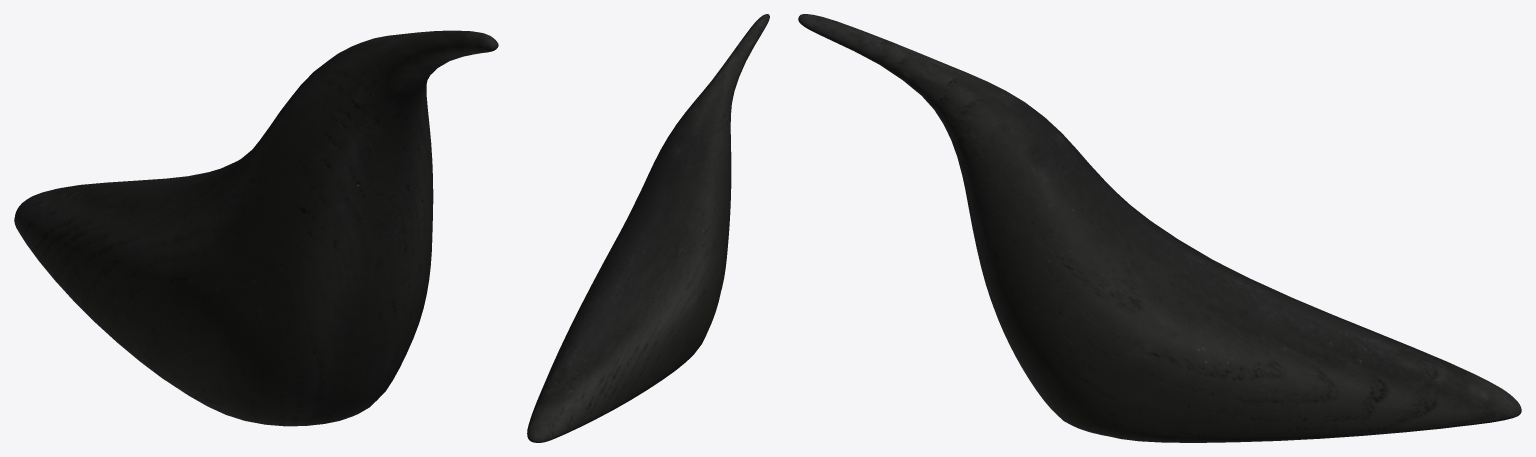
Rendered from Pajaros_Hummingbird.fbx.
The picture shows the model from 3 angles, left to right: view 1: azimuth 30°, elevation 25°; view 2: azimuth 150°, elevation 25°; view 3: azimuth 270°, elevation 25°; orthographic projection. The views are drawn at different scales.
Visible parts, largest first — view 1: Ligne_Roset_Pajaros_Hummingbird_mat1; view 2: Ligne_Roset_Pajaros_Hummingbird_mat1; view 3: Ligne_Roset_Pajaros_Hummingbird_mat1.
Boxes of the visible parts, <box> form: Ligne_Roset_Pajaros_Hummingbird_mat1: <box>14,30,498,426</box>; Ligne_Roset_Pajaros_Hummingbird_mat1: <box>527,14,769,442</box>; Ligne_Roset_Pajaros_Hummingbird_mat1: <box>798,14,1521,442</box>.
Bounding box in the file's own units: 4.02 × 15.85 × 9.65.
Materials: 1 (1 with a texture image).
